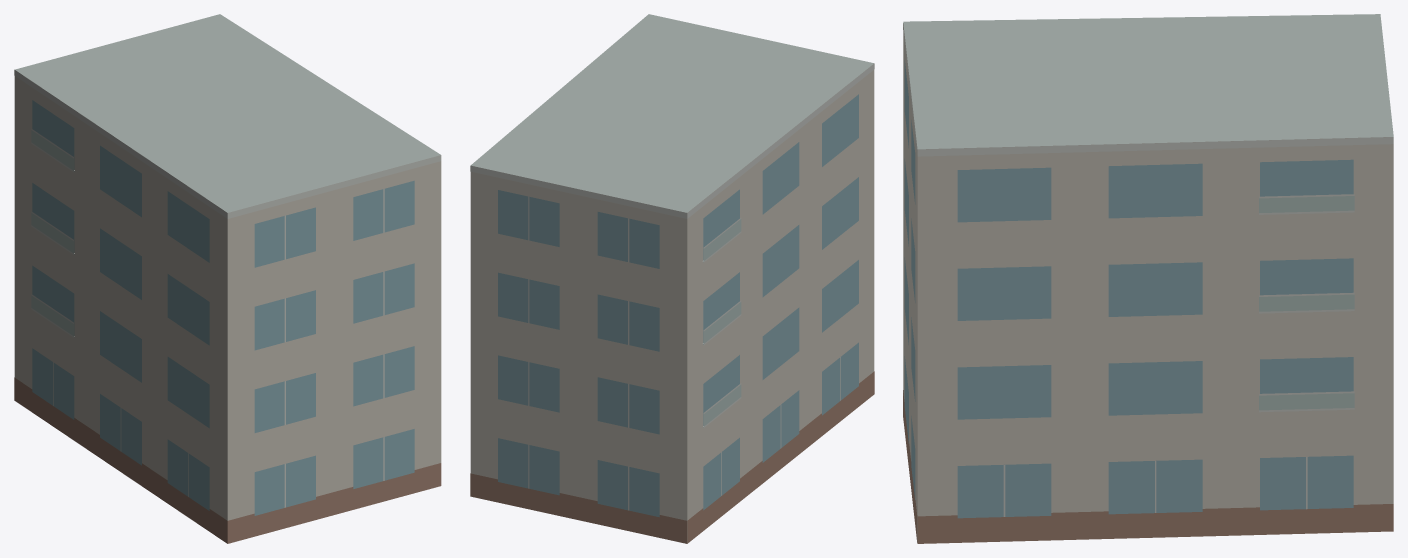
The model's file is survey-upis-32745742.glb.
3 views of the same model, side by side, from view 1: azimuth 30°, elevation 25°; view 2: azimuth 150°, elevation 25°; view 3: azimuth 270°, elevation 25° (orthographic). The views are drawn at different scales.
Visible parts, largest first — view 1: survey-upis-32745742.tmp; view 2: survey-upis-32745742.tmp; view 3: survey-upis-32745742.tmp.
Part boxes in pixels (<box>): survey-upis-32745742.tmp: <box>14,14,441,543</box>; survey-upis-32745742.tmp: <box>470,14,874,543</box>; survey-upis-32745742.tmp: <box>903,14,1393,543</box>.
Bounding box in the file's own units: 9.79 × 13.3 × 15.
